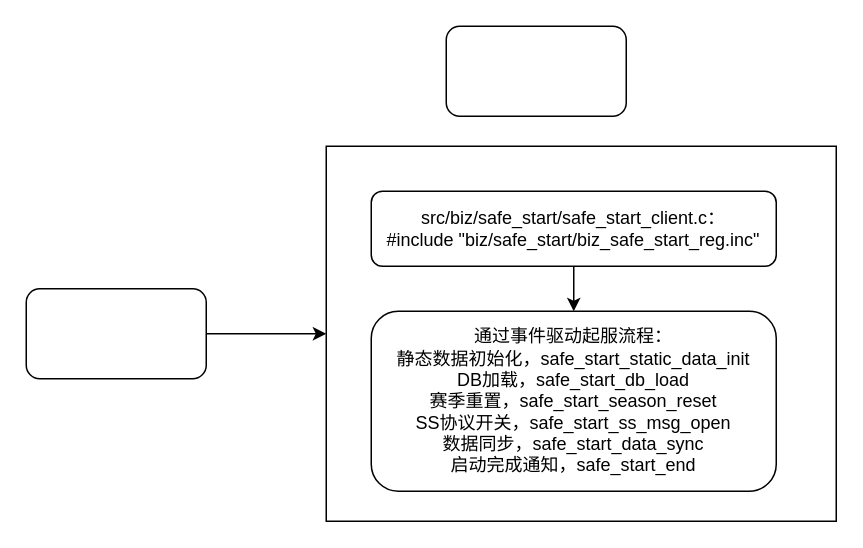
This 863x548 diagram has some shape labels left out. Each missing label, with the box of its shape:
ProcStepTrigger: (445, 25, 626, 116)
定时器， 依次触发事件: (25, 287, 206, 379)
